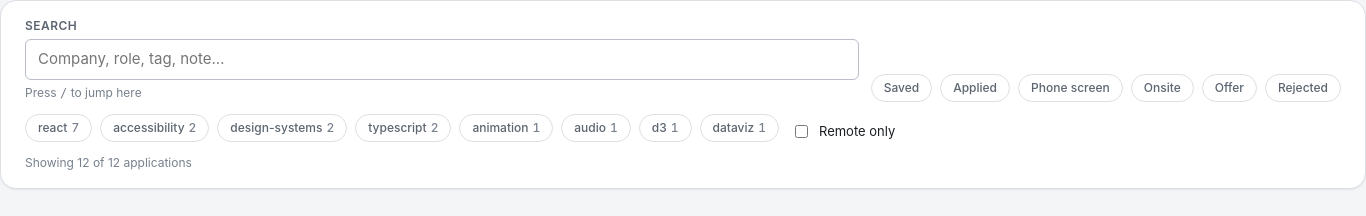
Scenario: FilterBar › narrows the list when a stage chip is pressed
Check: the text "Showing 12 of 12 applications" is shown, box [25,154,192,170]
Click the button "Offer": (1229, 88) [1202,74,1257,102]
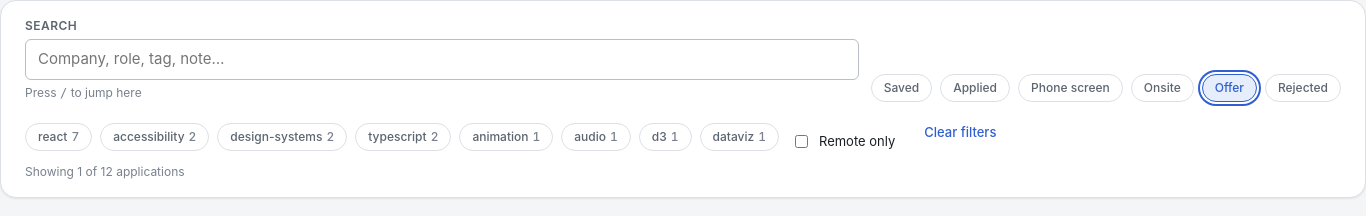
Check: the message reads "Showing 1 of 12 applications", box [25,164,185,179]
